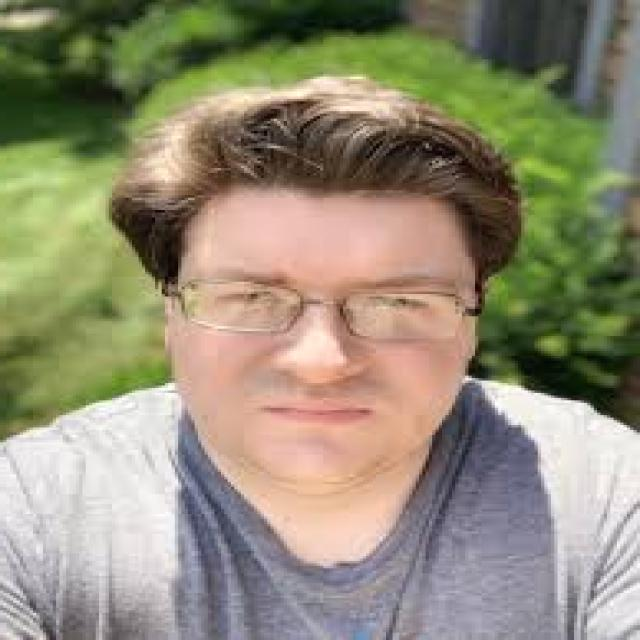normal_face: (177, 122, 506, 509)
